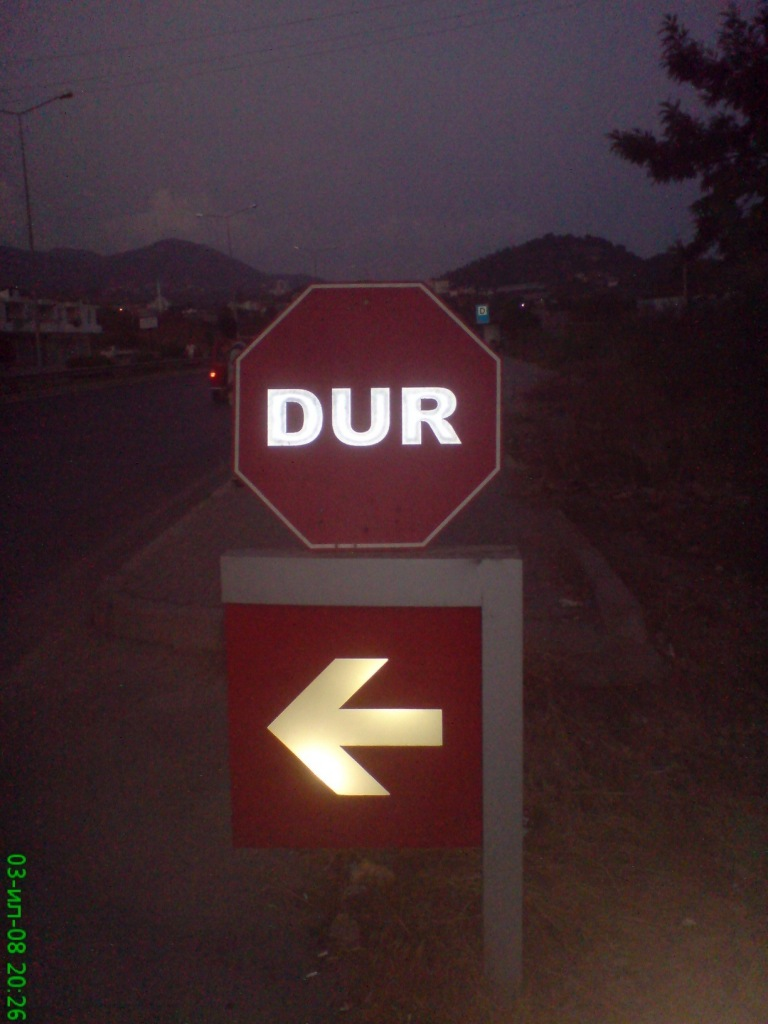dur: (236, 280, 503, 552)
